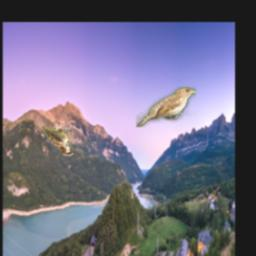Sparrow: (136, 87, 196, 127), (43, 125, 74, 156)
